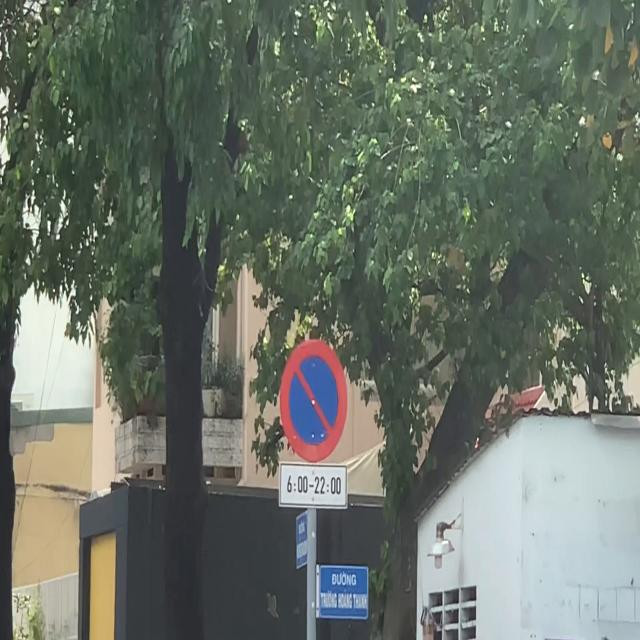Cam do: (280, 340, 352, 462)
